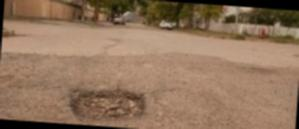pothole: (55, 74, 150, 128)
